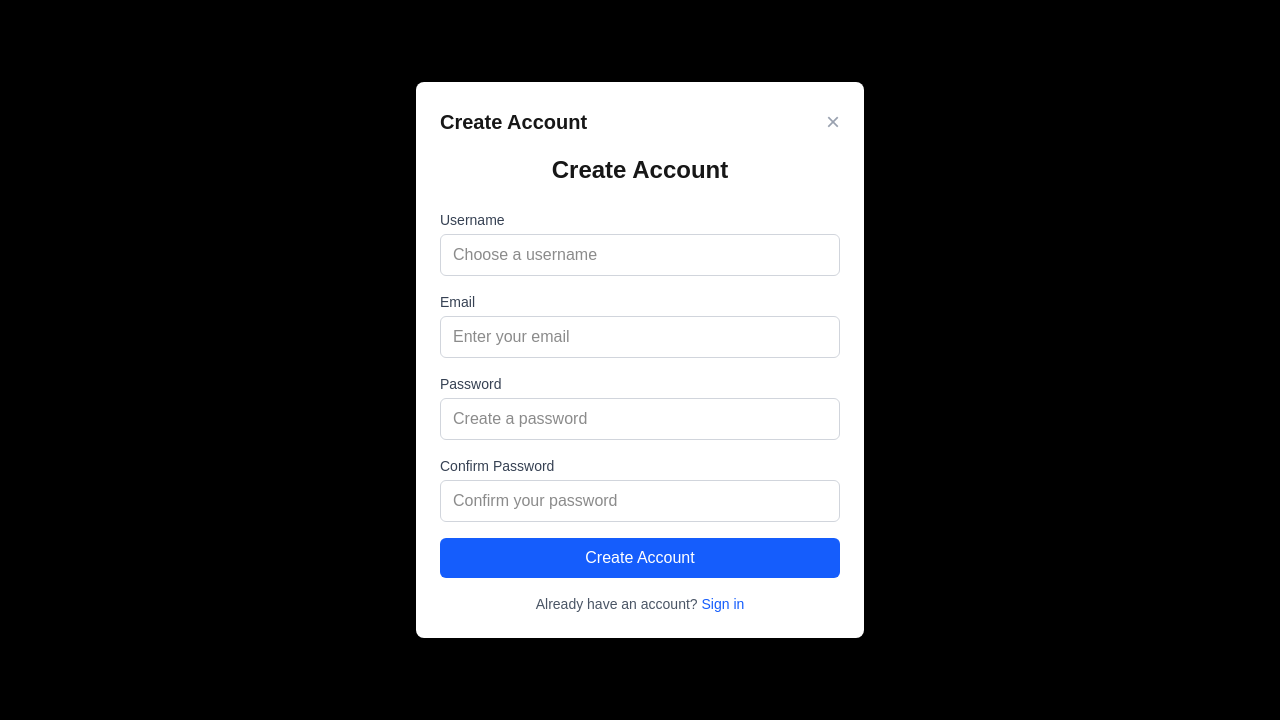
Test case: AuthModal › should switch from register to login mode
The image size is (1280, 720).
Expected: the number of headings "Create Account" is 2, [440,108,587,136]; [552,156,728,183]
// Click switch to login
Click the button "Sign in" at (723, 604), box [702,594,744,614]
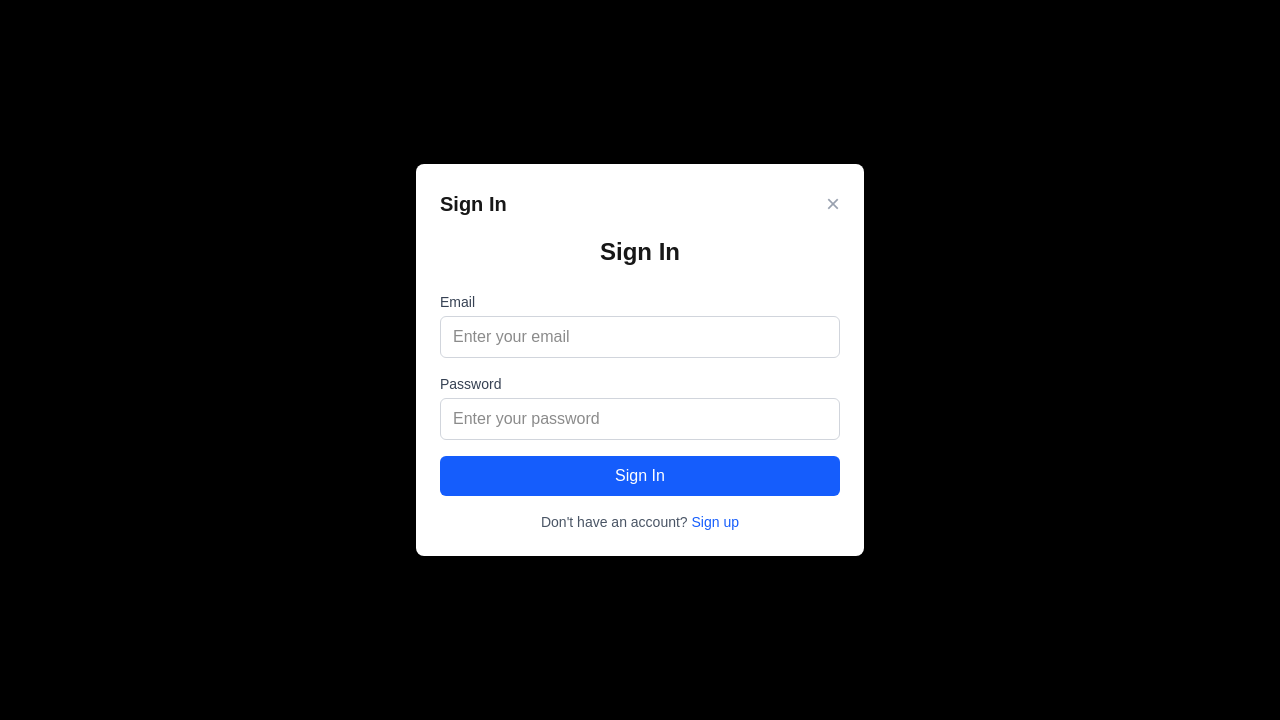
Expected: the number of headings "Sign In" is 2, [440,190,507,218]; [600,238,680,265]
Expected: the label labelled "Username" is gone
